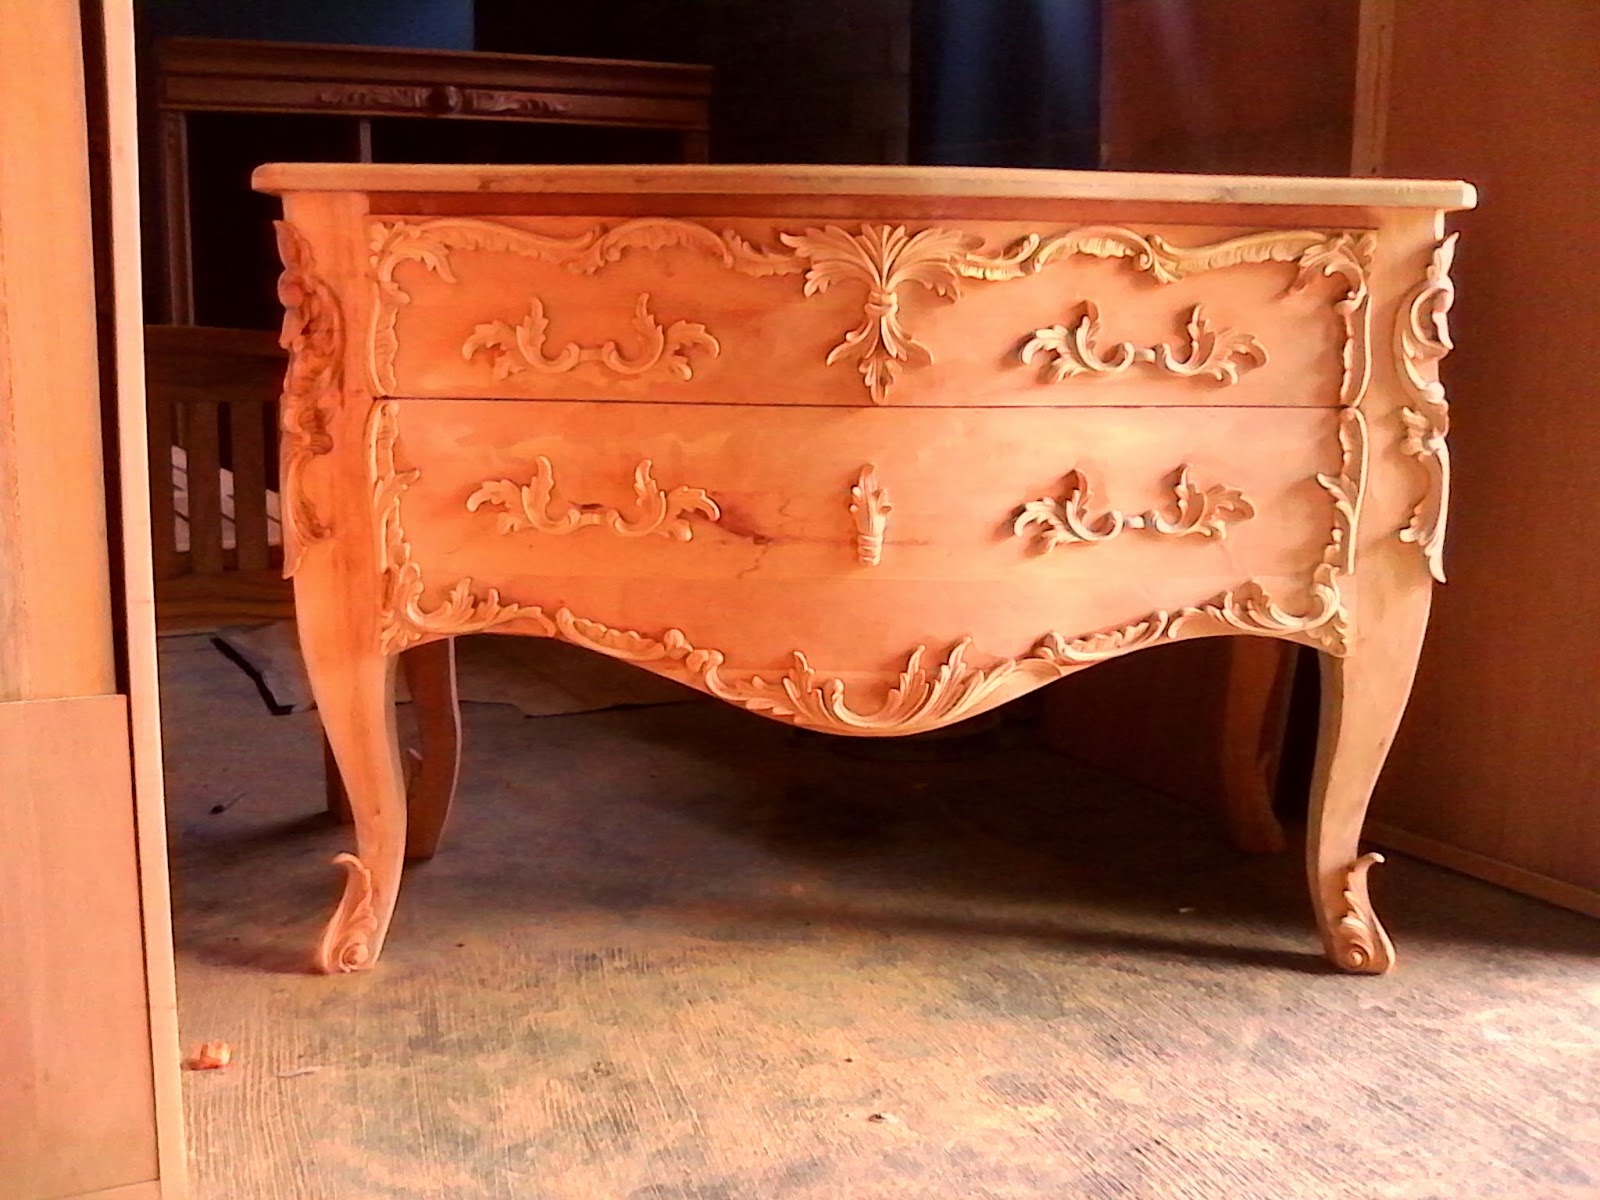Carving Table: (220, 108, 1506, 1051)
